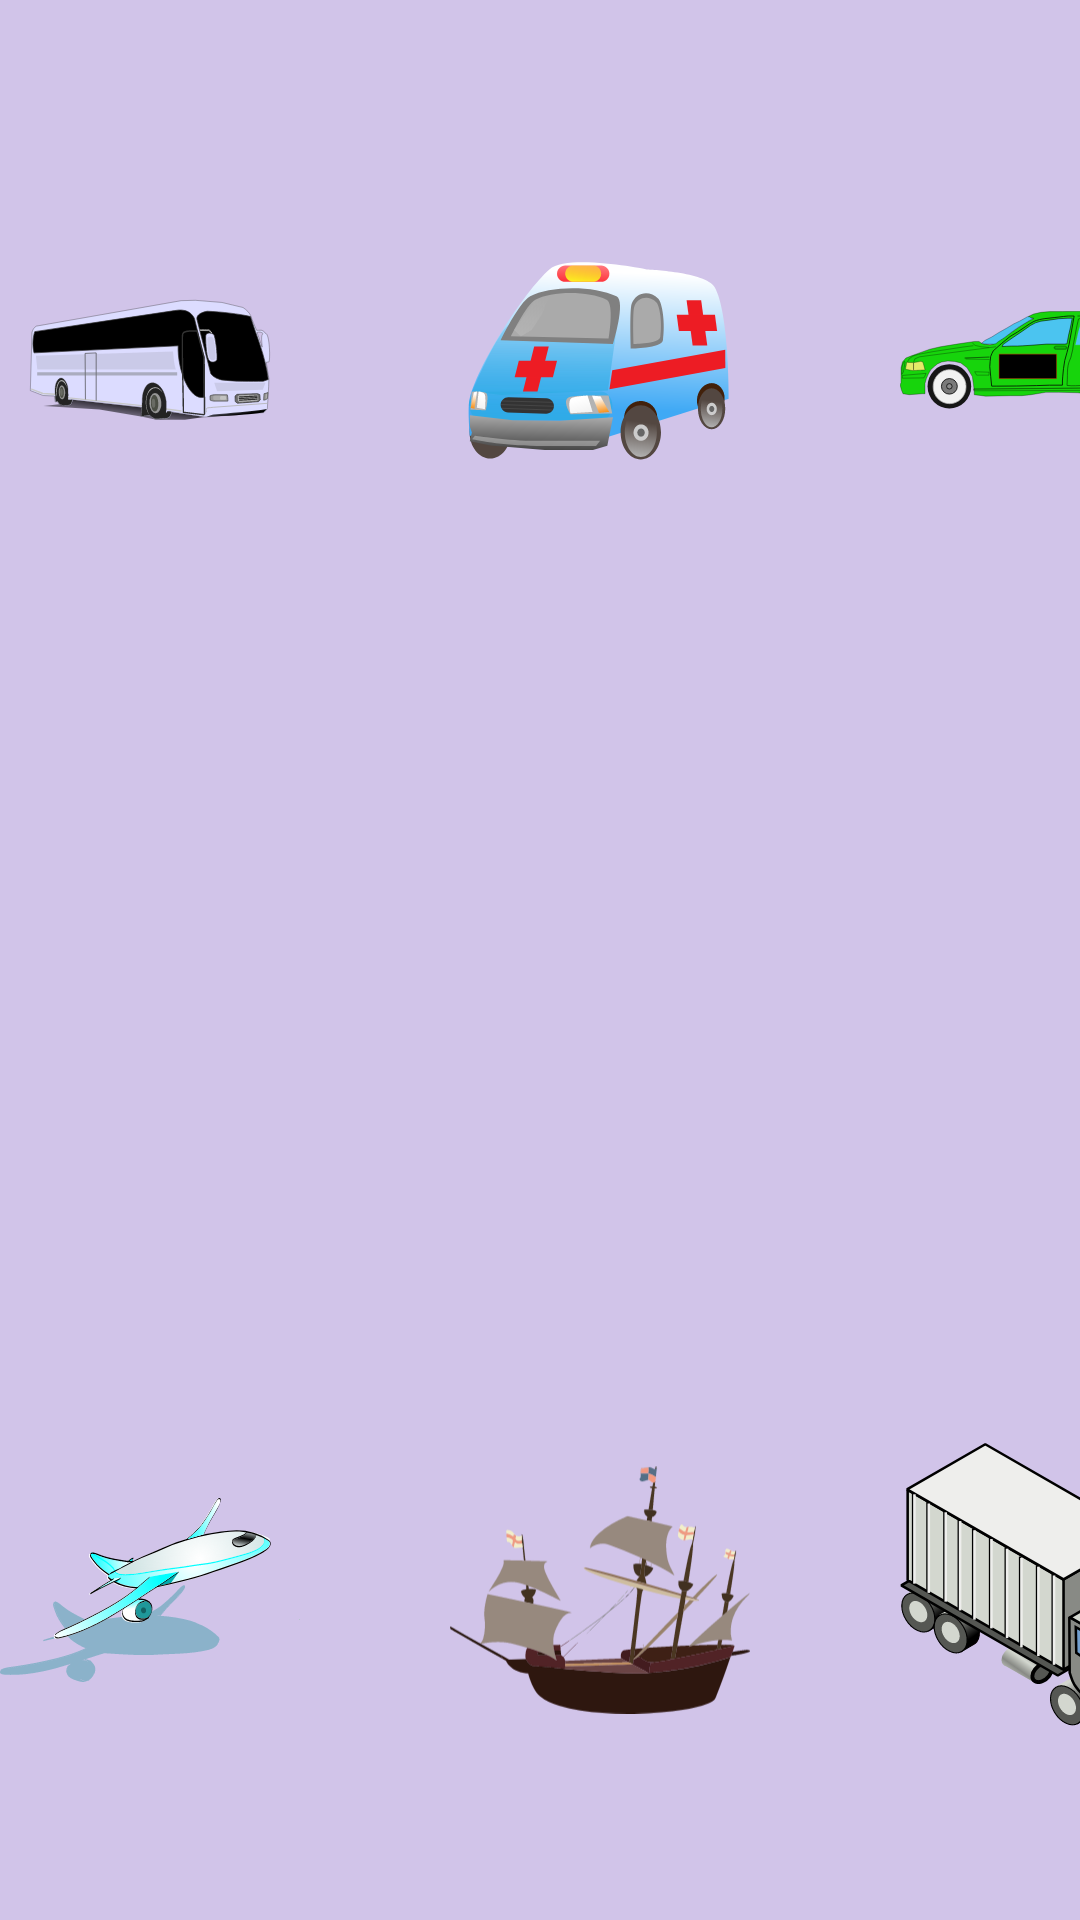

Icon click points for this 1080*1920 phone screenshot, format (x=x, y=y):
vehicle ambulance: (x=598, y=361)
vehicle bus: (x=149, y=359)
vehicle plane: (x=150, y=1590)
vehicle shippp: (x=600, y=1590)
